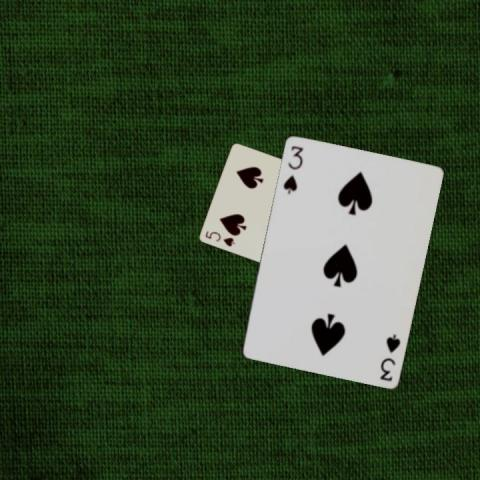3s: (377, 331, 402, 382), (280, 142, 304, 195)
5s: (202, 228, 236, 248)
